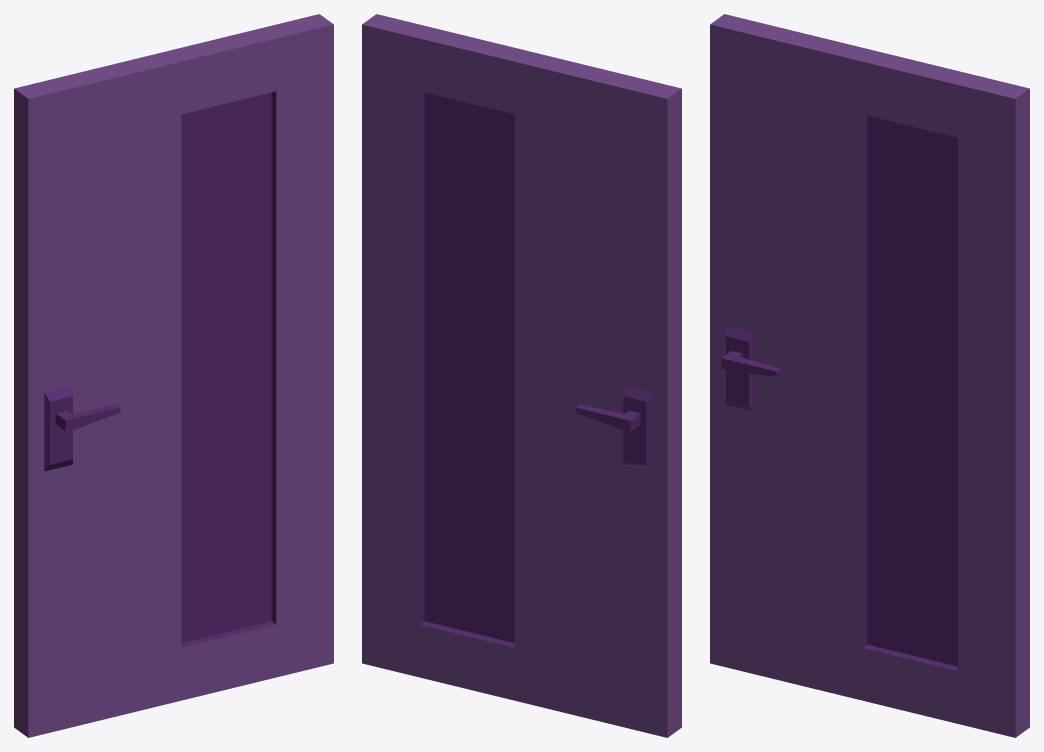
The model's file is GameOff2024IntroDoor.fbx.
3 renders of one model, left to right at view 1: azimuth 30°, elevation 25°; view 2: azimuth 150°, elevation 25°; view 3: azimuth 330°, elevation 25°, orthographic.
Parts seen in each view (by area): view 1: doorwayFront; view 2: doorwayFront; view 3: doorwayFront.
Part boxes in pixels (x1=…): doorwayFront: x1=14, y1=14, x2=333, y2=737; doorwayFront: x1=362, y1=14, x2=681, y2=737; doorwayFront: x1=710, y1=14, x2=1029, y2=737.
Bounding box in the file's own units: 0.4977 × 0.1134 × 0.9948.
